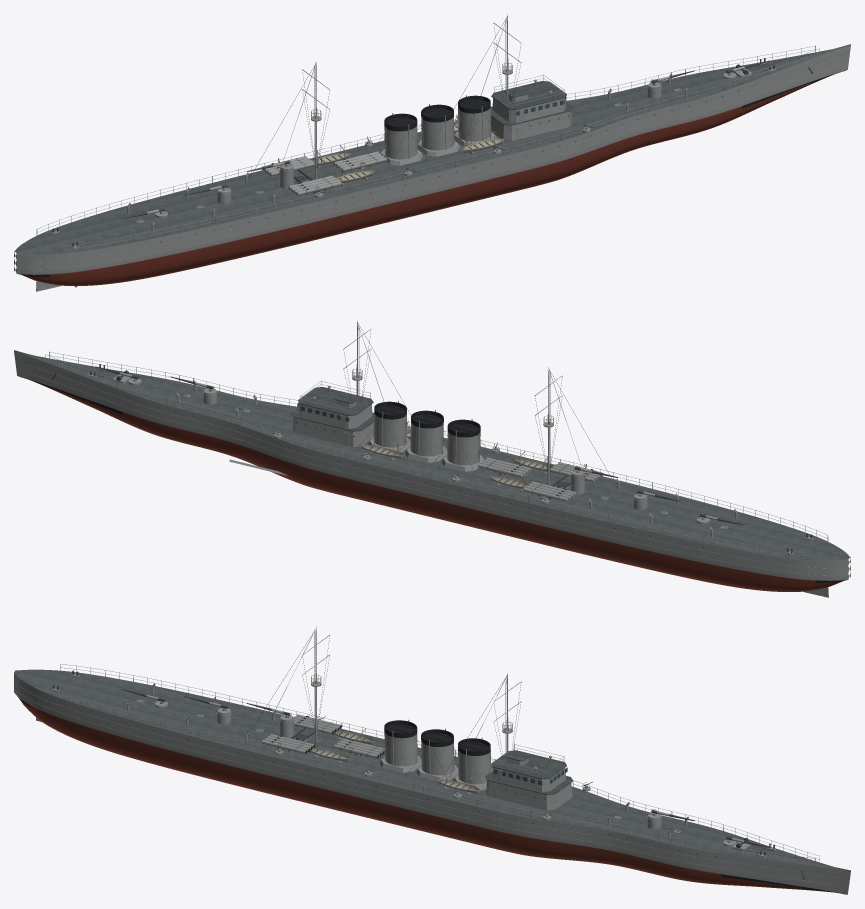
Rendered from ecole_dd30.glb.
3 views of the same model, one above another, from view 1: azimuth 30°, elevation 25°; view 2: azimuth 150°, elevation 25°; view 3: azimuth 330°, elevation 25° (orthographic).
Visible parts, largest first — view 1: Vengeur torpedo destroyer; view 2: Vengeur torpedo destroyer; view 3: Vengeur torpedo destroyer.
Boxes of the visible parts, x1,y1,x2,y2 form: Vengeur torpedo destroyer: [14, 14, 850, 291]; Vengeur torpedo destroyer: [14, 320, 850, 597]; Vengeur torpedo destroyer: [14, 626, 850, 894].
Size of the model in its own units: 126 by 23.68 by 12.48.
Materials: 9 (8 with a texture image).
